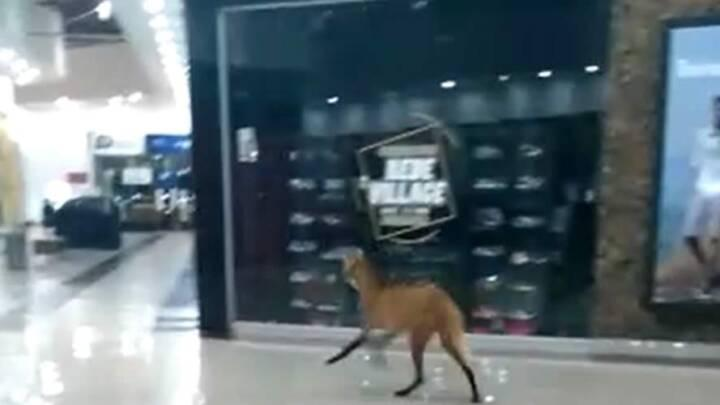LoboGuara: (327, 247, 498, 405)
